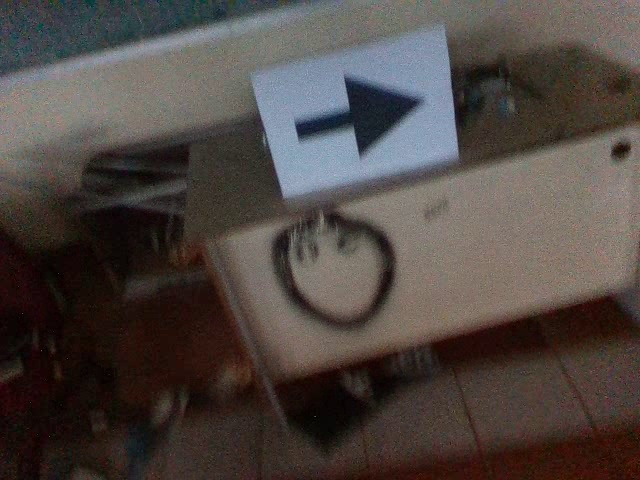Right: (287, 70, 424, 159)
